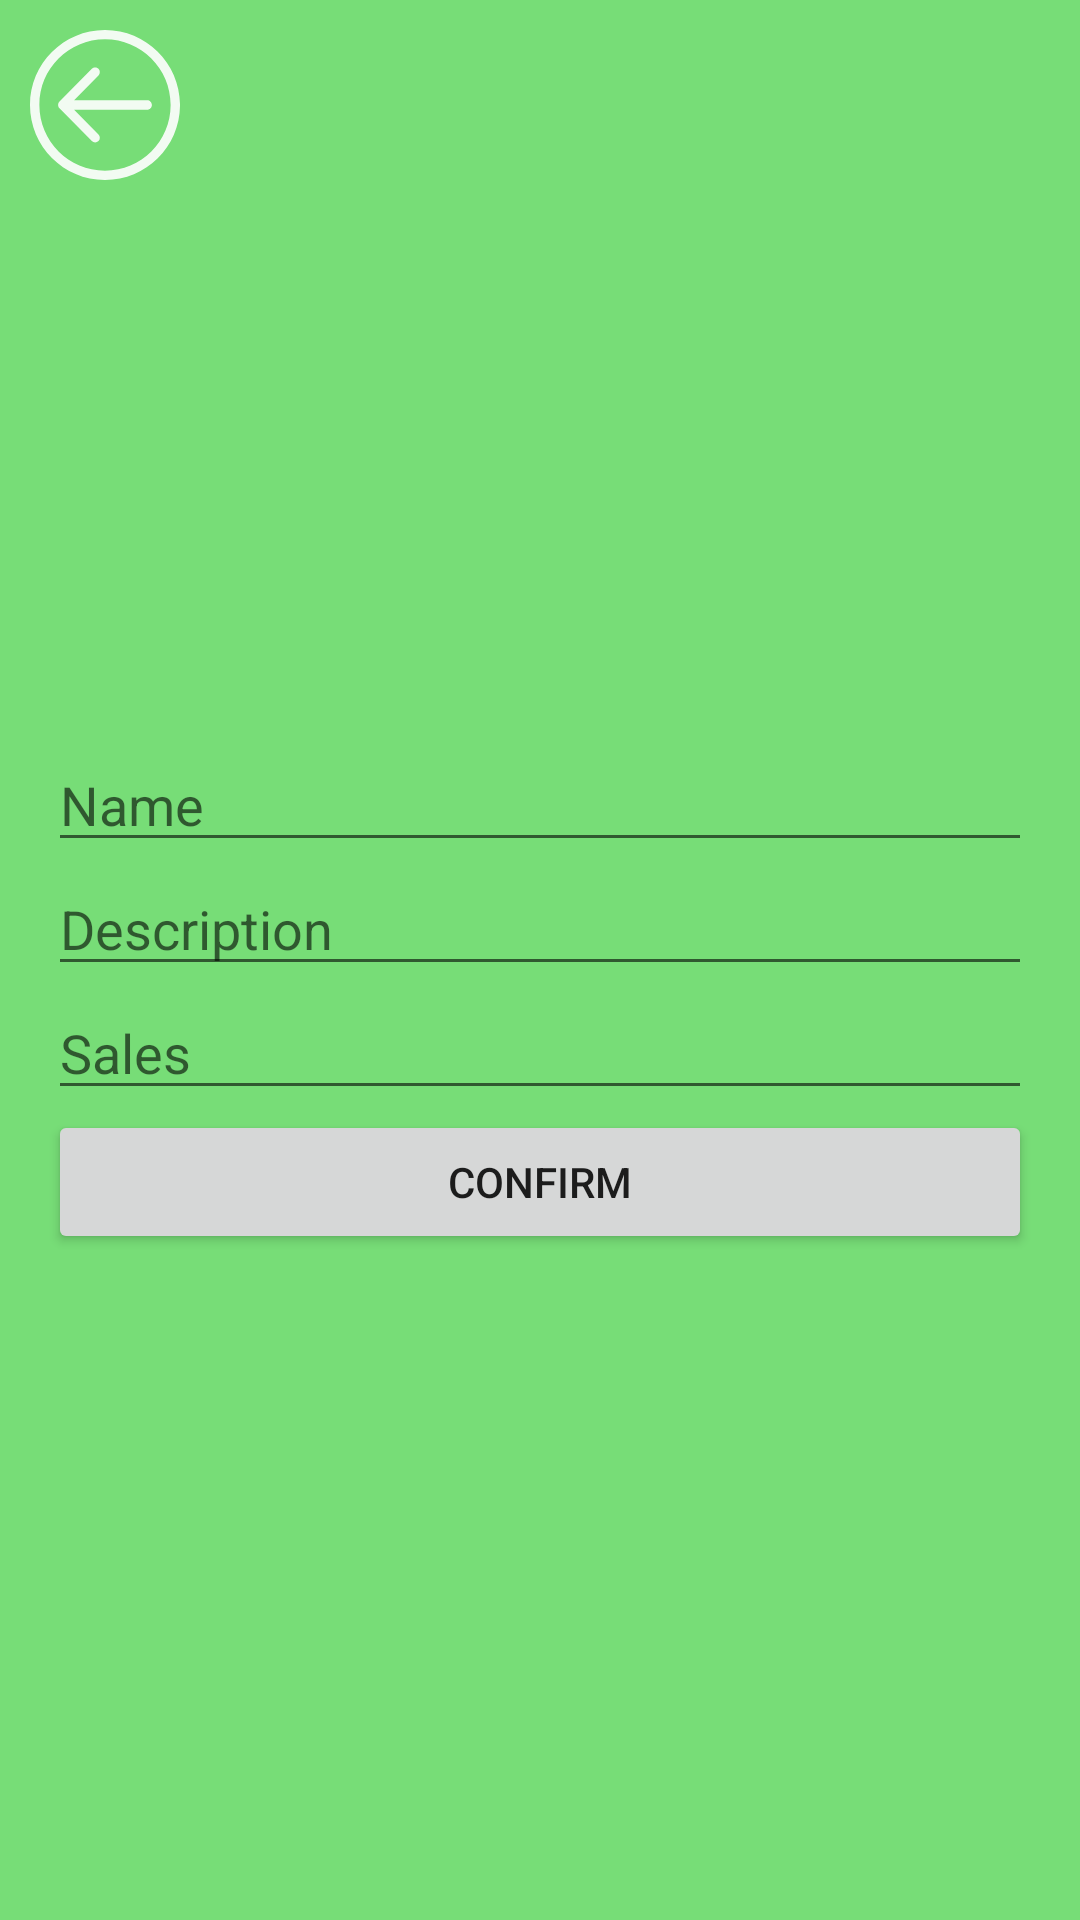

Icon click points for this 1080px×1920px phone screenshot, format point (x, y):
back: point (105, 105)
